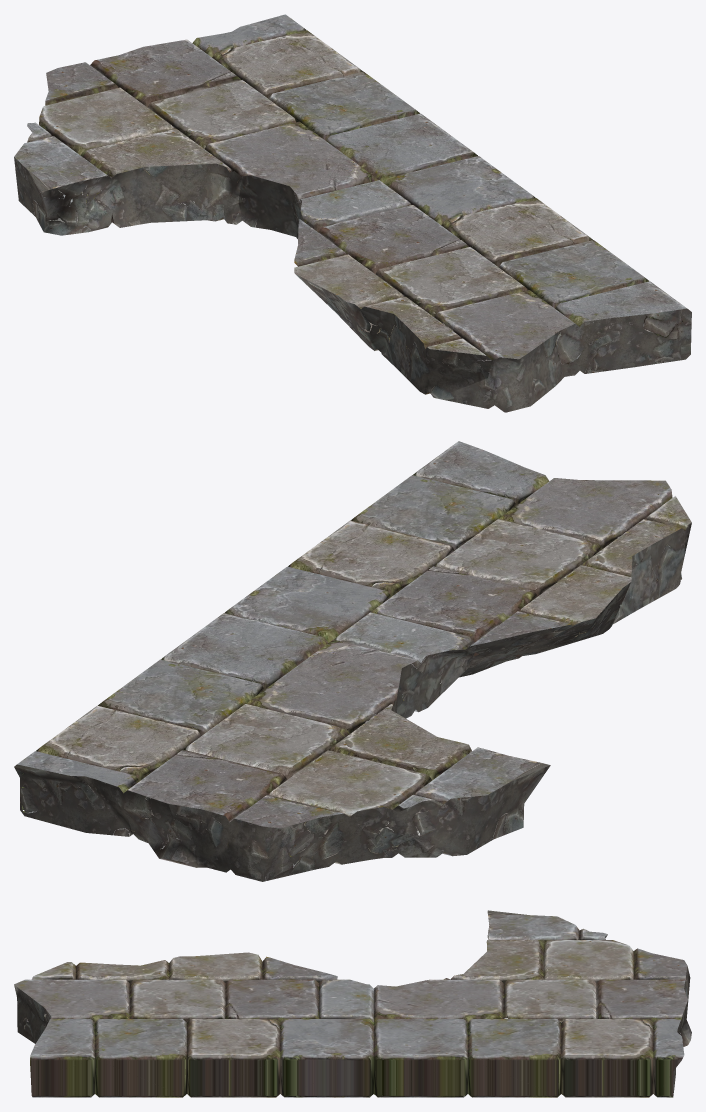
3 views of the same model, one above another, from view 1: azimuth 30°, elevation 25°; view 2: azimuth 150°, elevation 25°; view 3: azimuth 270°, elevation 25° (orthographic). The views are drawn at different scales.
Visible parts, largest first — view 1: SM_Greathall_Floor_8x8_Dmg_01_LOD0; view 2: SM_Greathall_Floor_8x8_Dmg_01_LOD0; view 3: SM_Greathall_Floor_8x8_Dmg_01_LOD0.
Part boxes in pixels (x1,y1,x2,y2): SM_Greathall_Floor_8x8_Dmg_01_LOD0: (14,14,691,412); SM_Greathall_Floor_8x8_Dmg_01_LOD0: (14,441,691,881); SM_Greathall_Floor_8x8_Dmg_01_LOD0: (14,910,691,1097).
Bounding box in the file's own units: 3.71 × 0.4999 × 7.25.
Materials: 2 (2 with a texture image).
